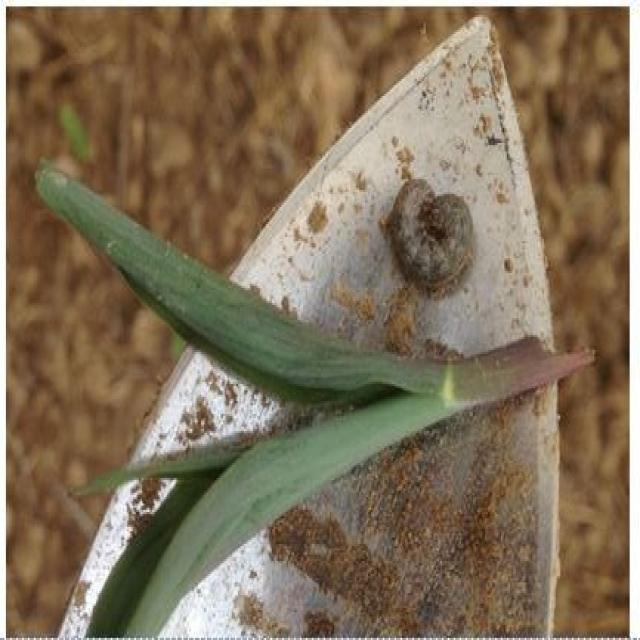black cutworm: (388, 167, 480, 310)
